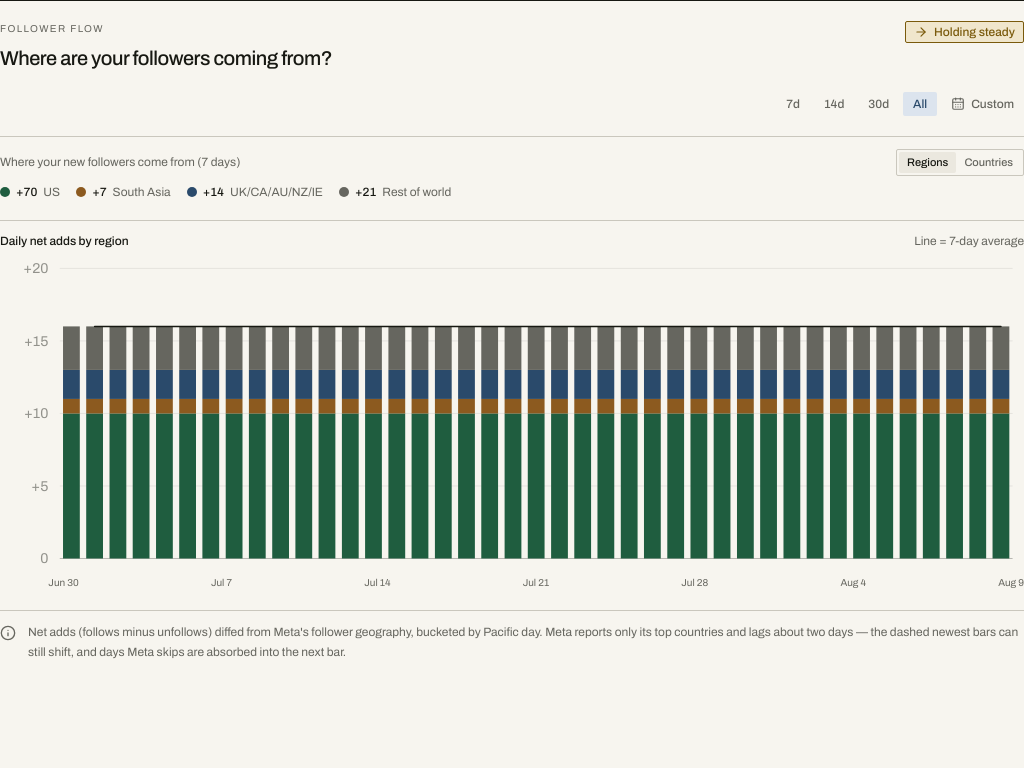
Test: Follower flow country mode › adds a second country rather than replacing the first
This screenshot has width=1024, height=768.
Click the button "countries": click(989, 162) [956,152,1021,172]
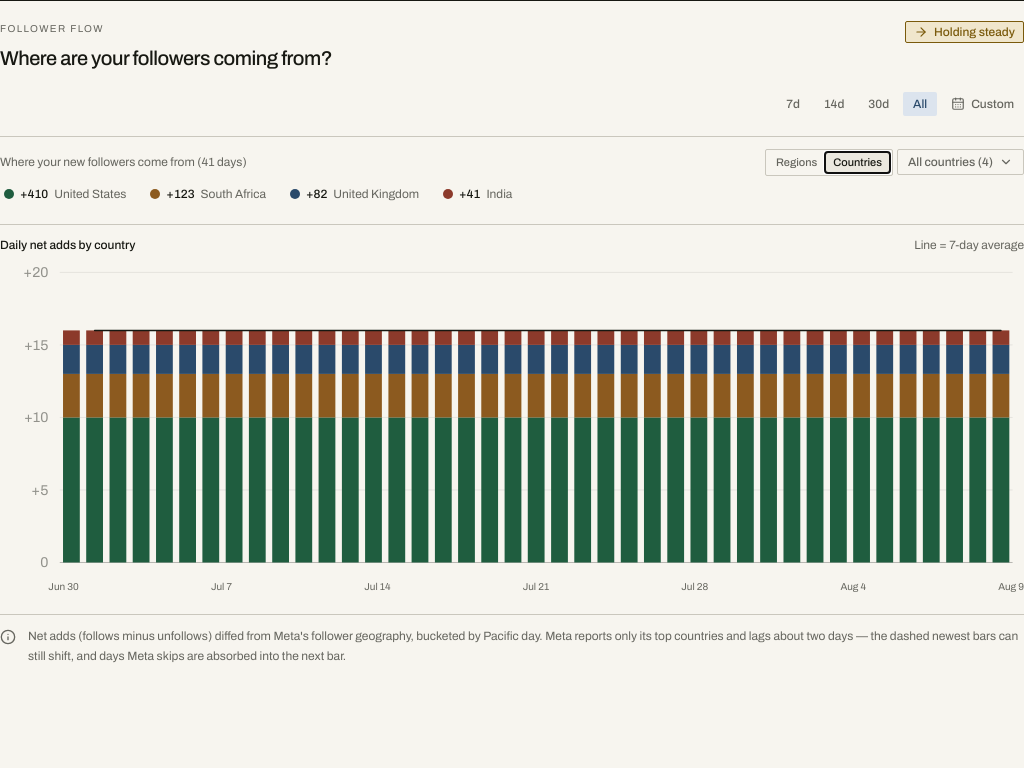
Click the button "+123 South Africa": click(208, 194) [146,184,270,204]
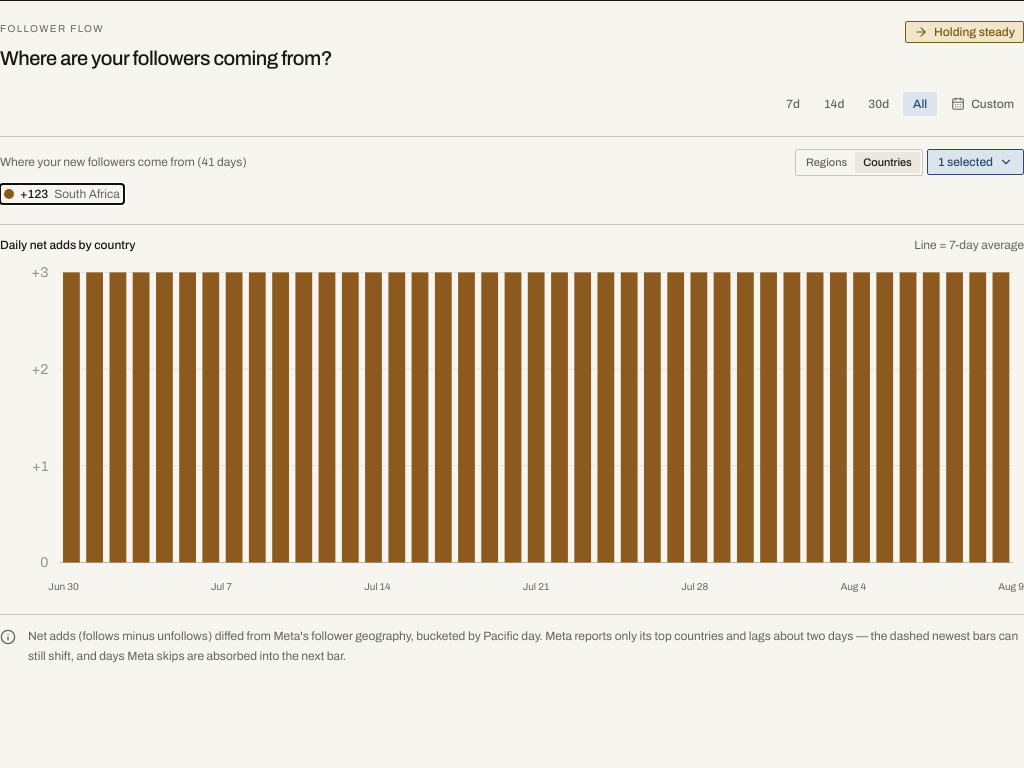
Click the button "1 selected": click(975, 162) [927,149,1023,175]
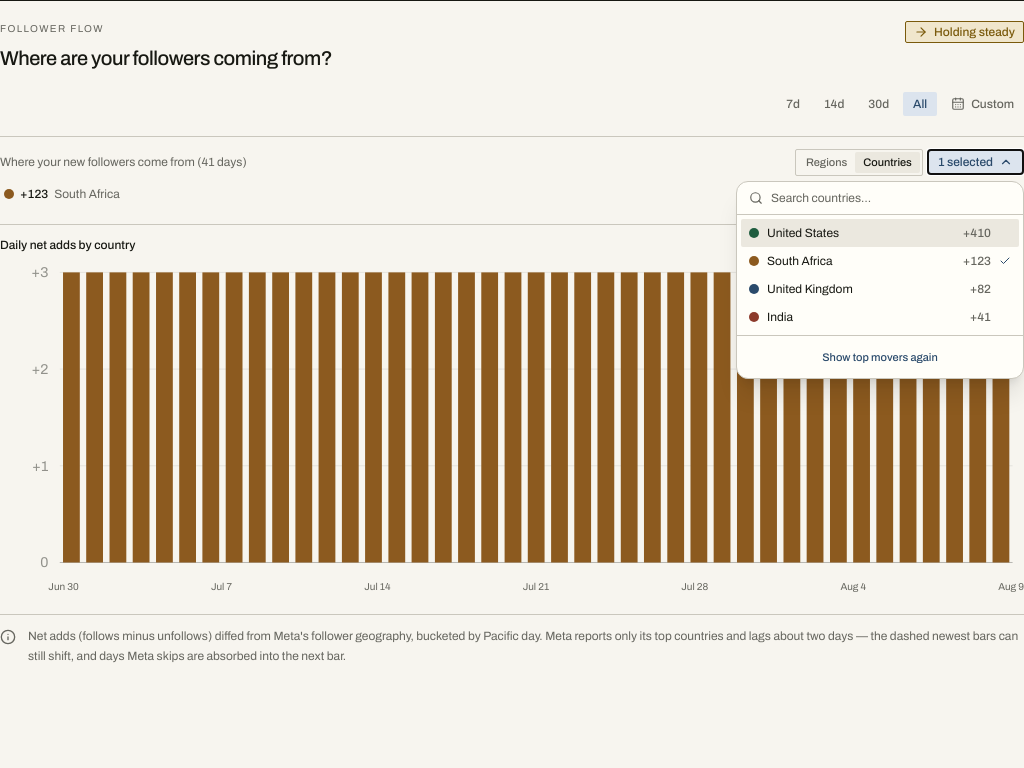
Click the text "United States": click(803, 233) [767,226,839,240]
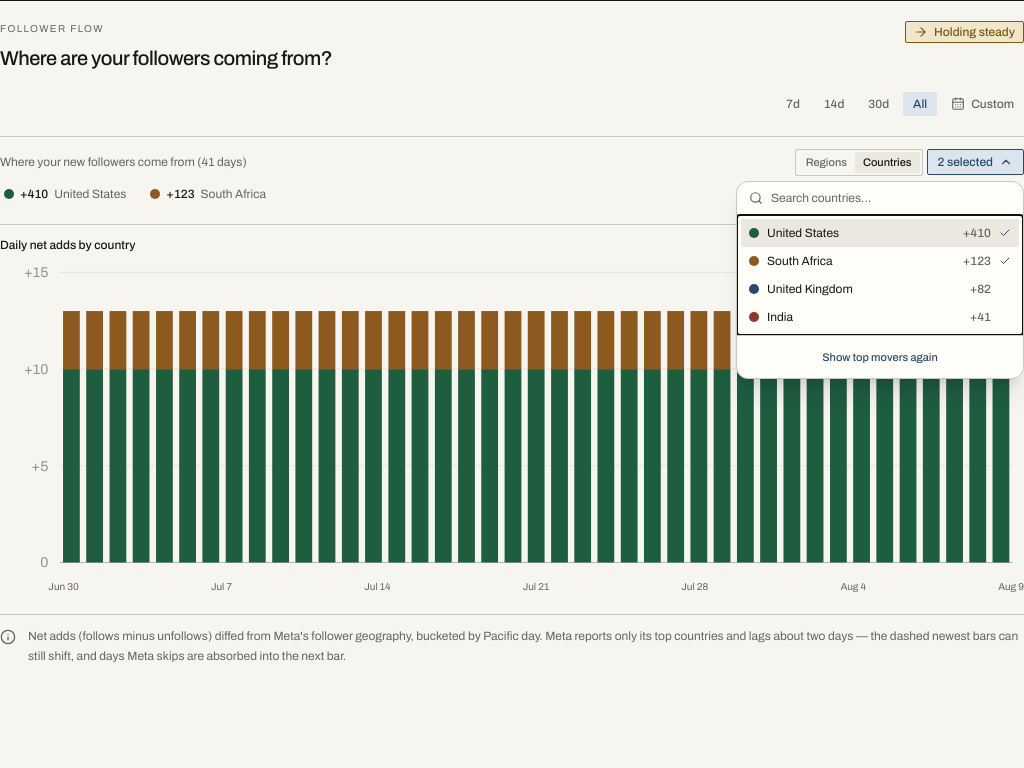
Now the button "2 selected" is shown, box [927,149,1023,175]
